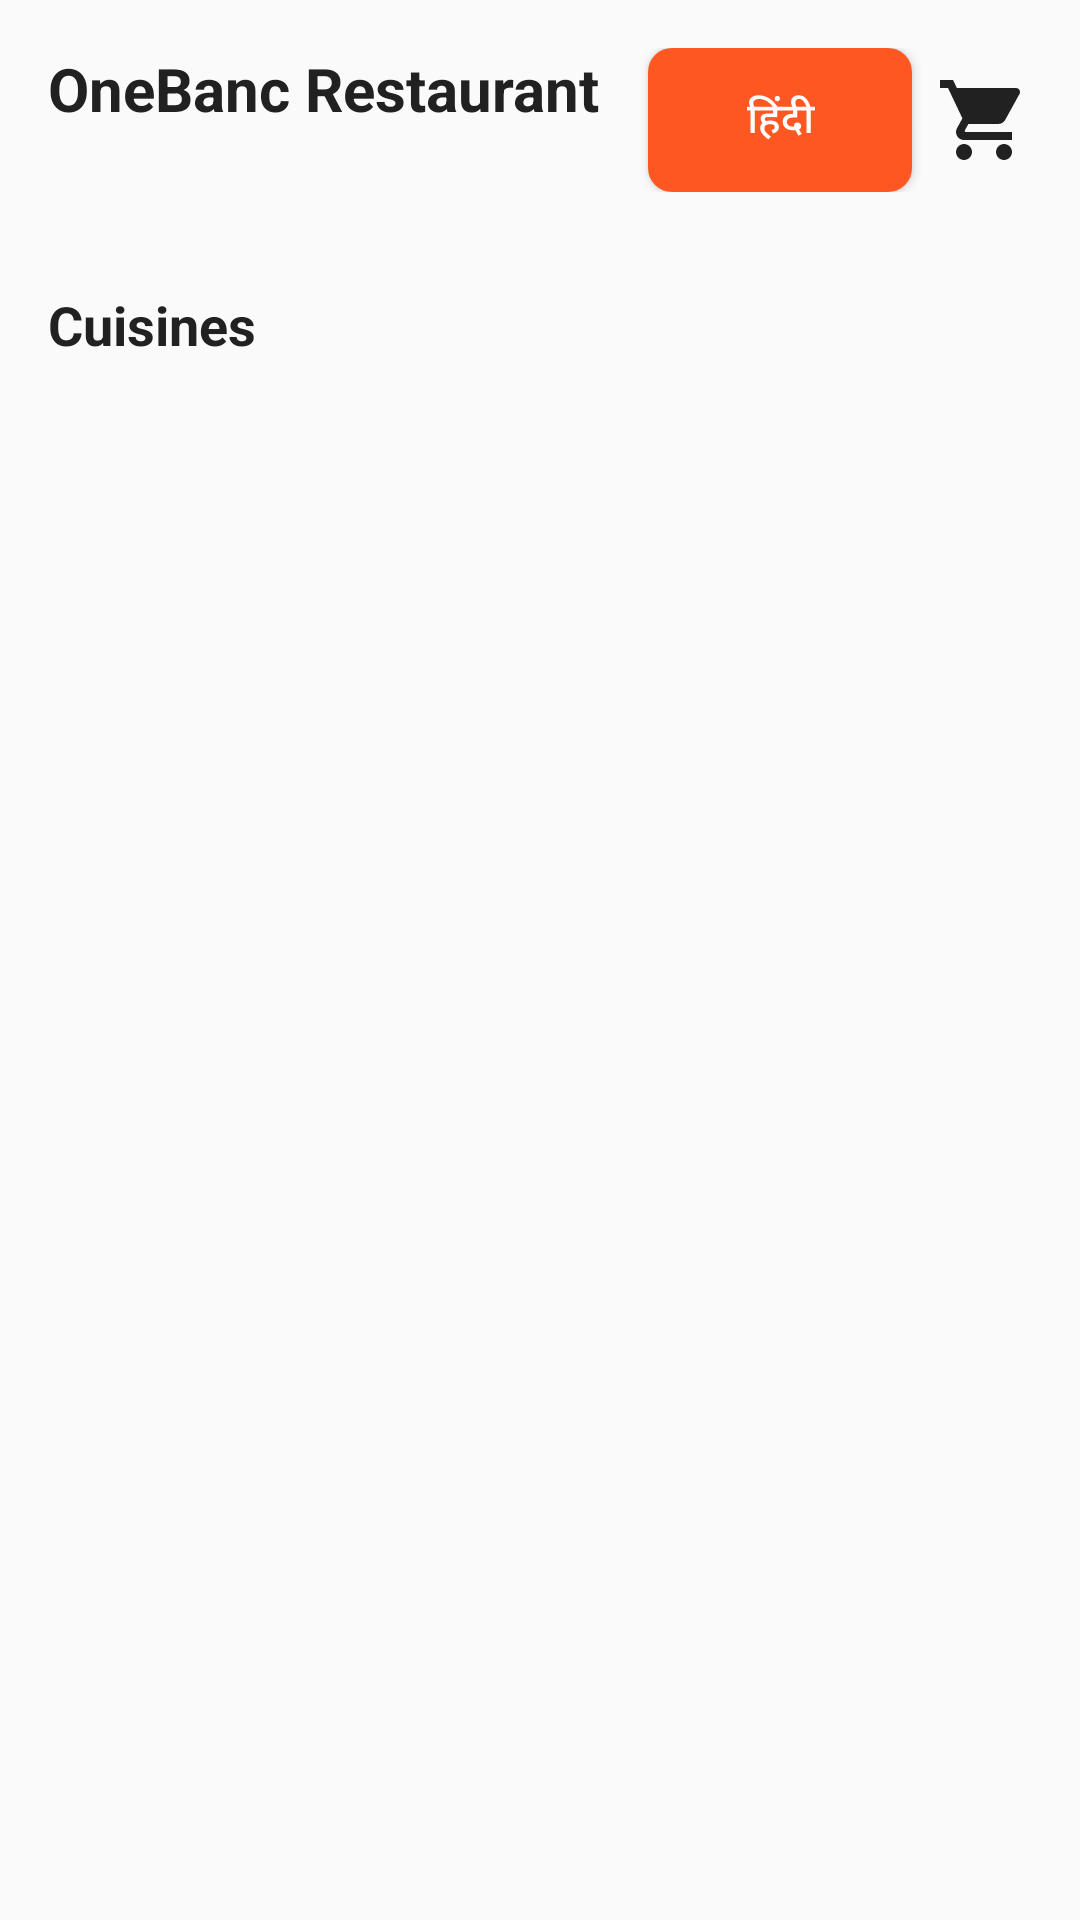

Named icons in this screenshot (1080w x 1920h) and their centers, point (x, y):
Your Cart: point (980, 120)
